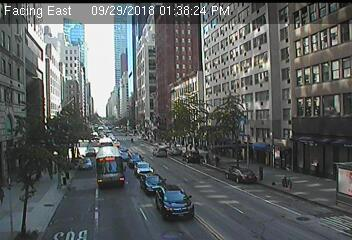car: (155, 185, 193, 219), (96, 146, 122, 188), (225, 167, 256, 184), (140, 174, 165, 195), (134, 161, 153, 178), (127, 152, 144, 167), (182, 152, 201, 164), (98, 138, 113, 153), (152, 146, 166, 158), (79, 158, 92, 169), (167, 148, 180, 156), (85, 147, 96, 156), (122, 151, 131, 161)
